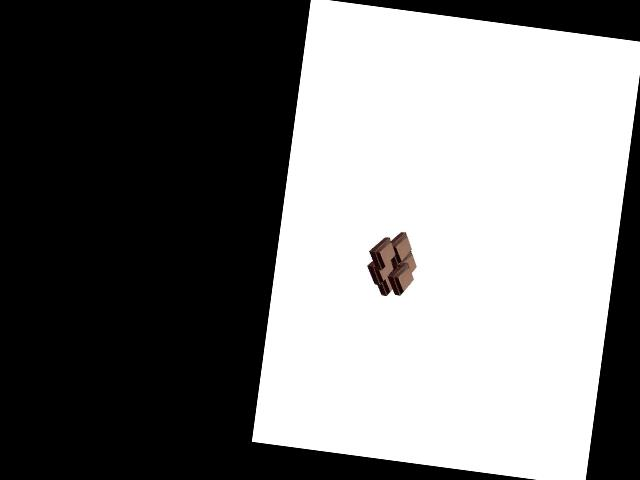chocolate: (365, 228, 422, 301)
